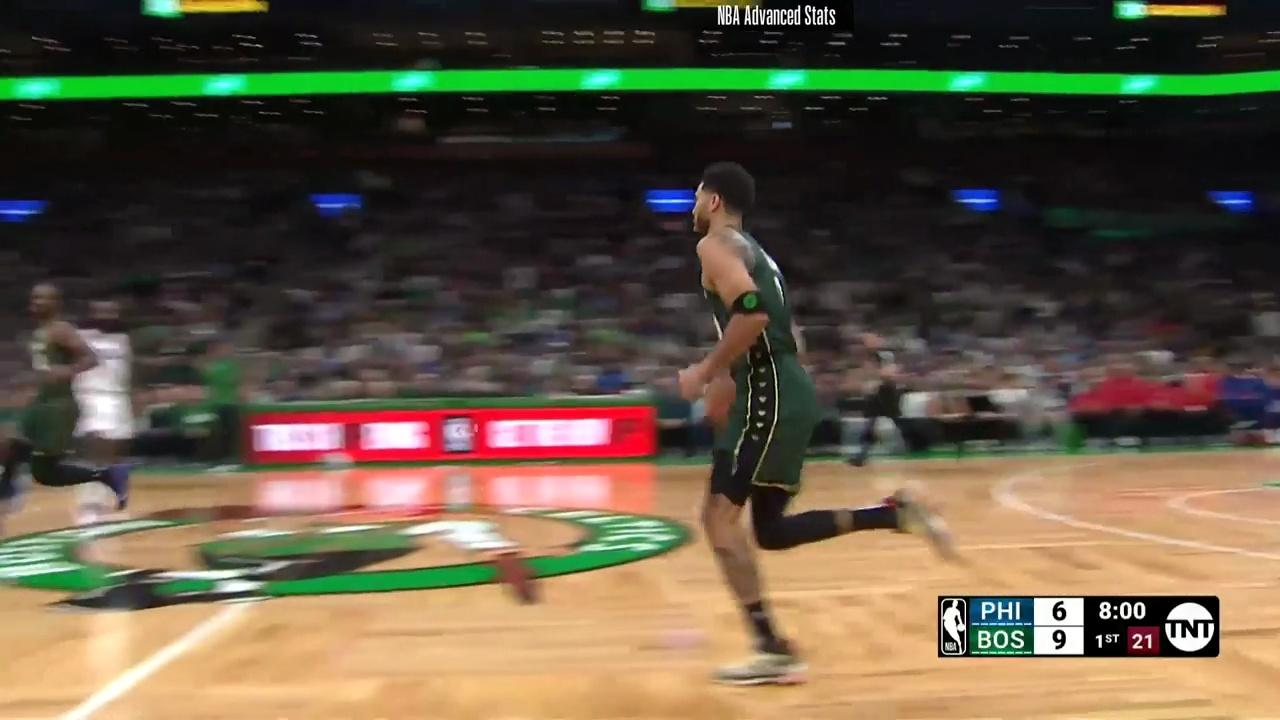Ball: (704, 372, 737, 429)
Person: (637, 159, 941, 673), (1, 276, 97, 521), (59, 288, 155, 527)
